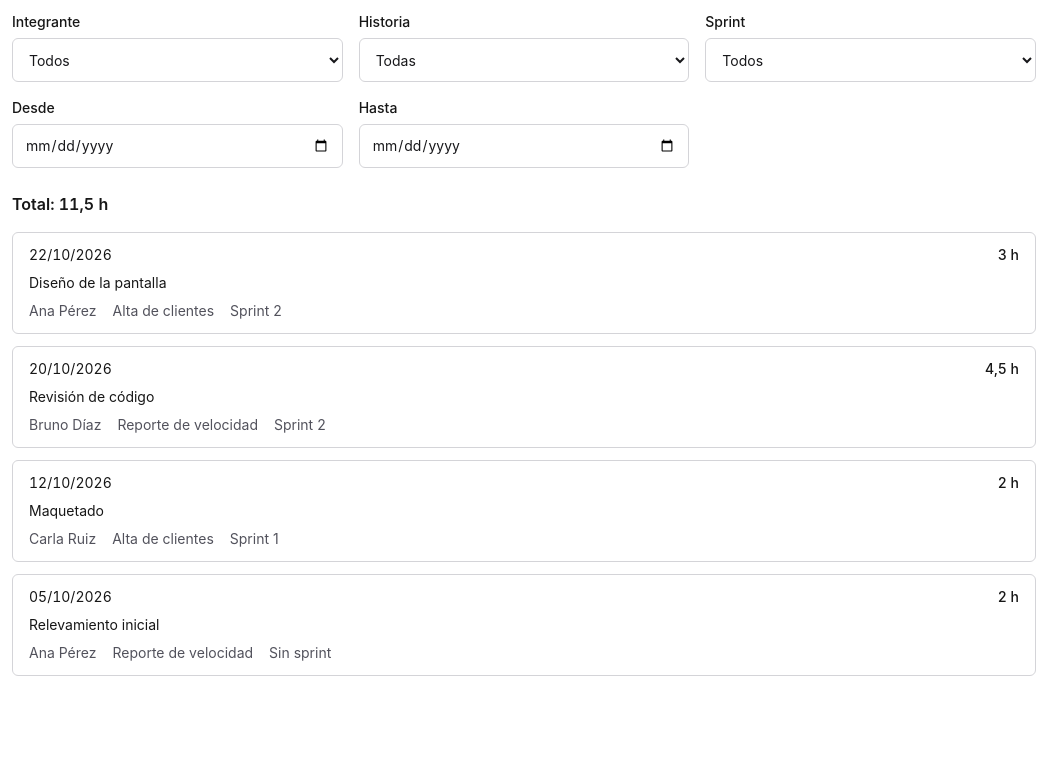
Test case: 006/US4 - Consultar el esfuerzo del proyecto con filtros › Caso alternativo — filtro por un sprint concreto
Check: the number of list items is 4, box x1=12 y1=232 x2=1036 y2=334; x1=12 y1=346 x2=1036 y2=448; x1=12 y1=460 x2=1036 y2=562; x1=12 y1=574 x2=1036 y2=676
Check: the list item that starts with "3 h" shows "Diseño de la pantalla", box x1=29 y1=274 x2=166 y2=291
Select "Sprint 2" in the dropdown labelled "Sprint" at {"x": 871, "y": 60}, box x1=705 y1=38 x2=1036 y2=82
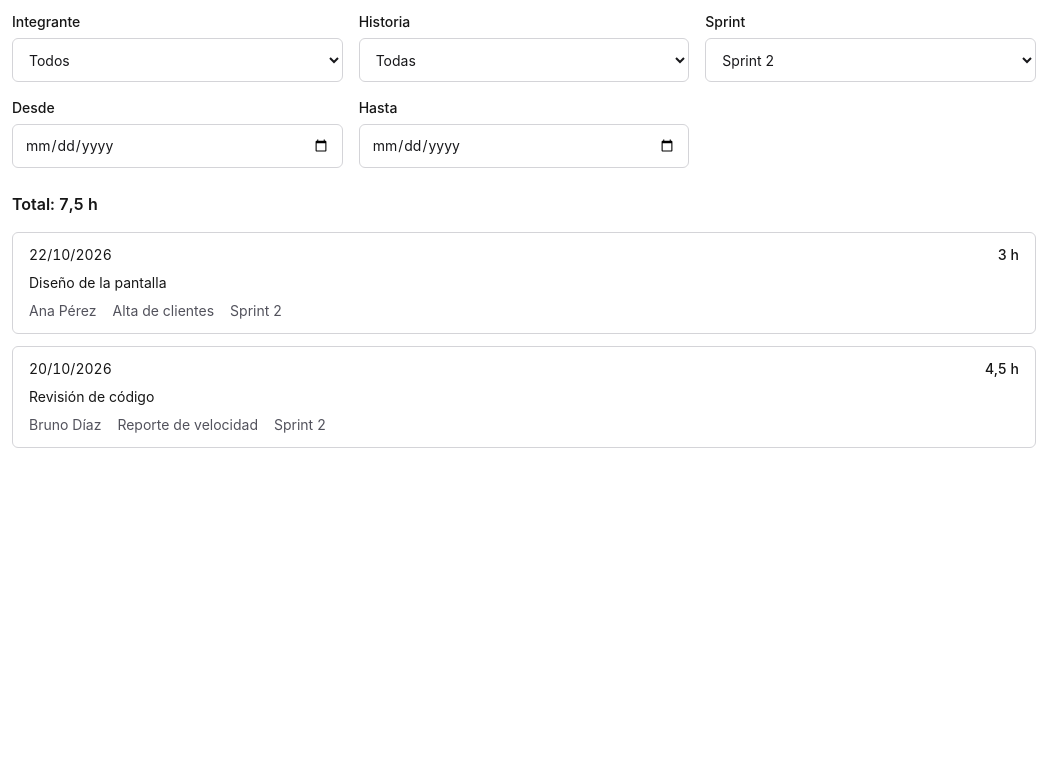
Check: the list item that starts with "3 h" shows "Diseño de la pantalla", box x1=29 y1=274 x2=166 y2=291
Check: the number of list items is 2, box x1=12 y1=232 x2=1036 y2=334; x1=12 y1=346 x2=1036 y2=448
Check: the text "Total: 7,5 h" is shown, box x1=12 y1=194 x2=98 y2=214
